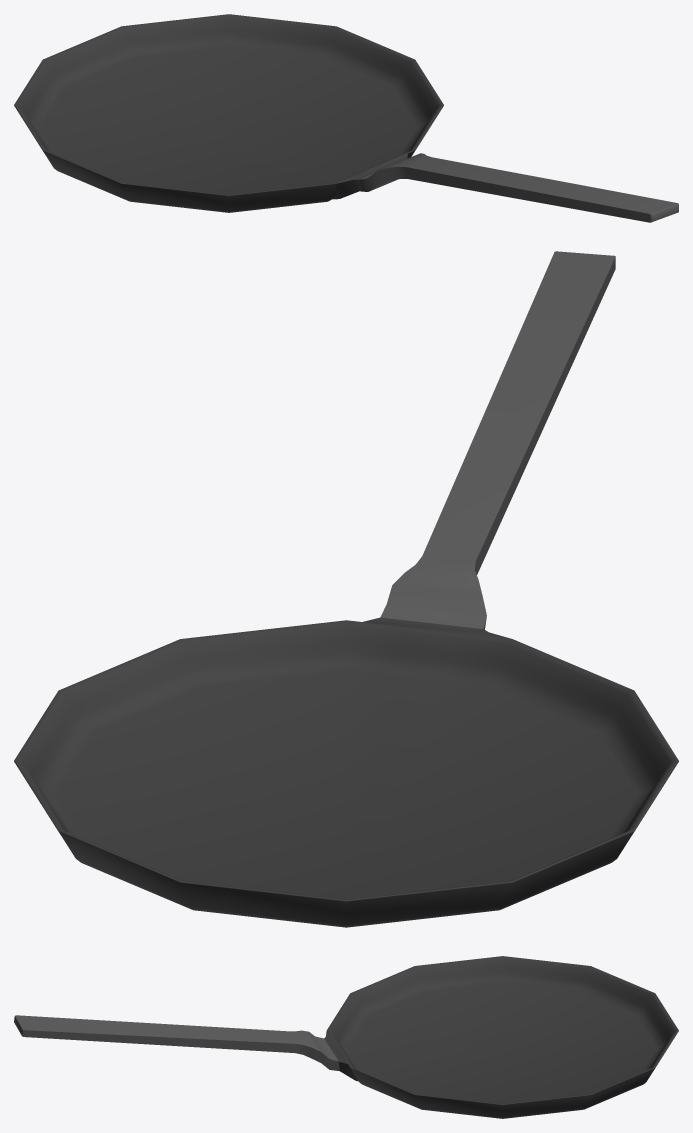
File: Small Frying Pan.fbx
3 views of the same model, one above another, from view 1: azimuth 30°, elevation 25°; view 2: azimuth 150°, elevation 25°; view 3: azimuth 270°, elevation 25° (orthographic). The views are drawn at different scales.
Parts seen in each view (by area): view 1: Small Frying Pan; view 2: Small Frying Pan; view 3: Small Frying Pan.
Boxes of the visible parts, bbox=[...] form: Small Frying Pan: bbox=[14, 14, 678, 222]; Small Frying Pan: bbox=[14, 251, 678, 927]; Small Frying Pan: bbox=[14, 956, 678, 1118].
Bounding box in the file's own units: 24.51 × 6.56 × 46.26.
